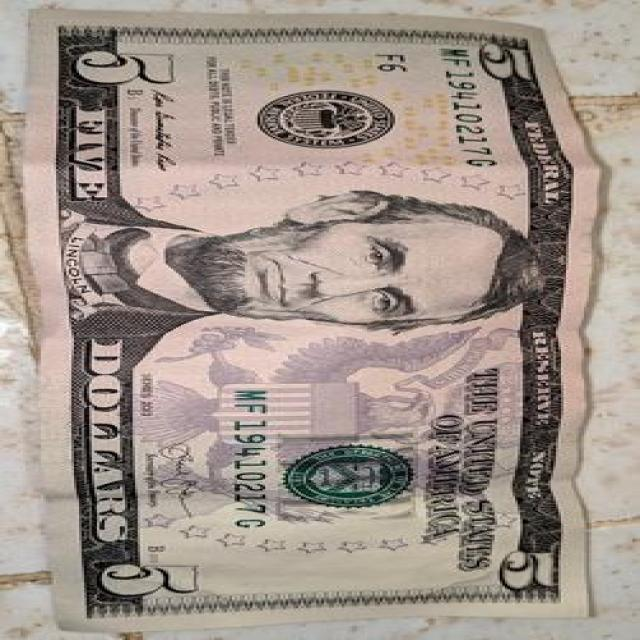5-Front: (26, 8, 599, 636)
